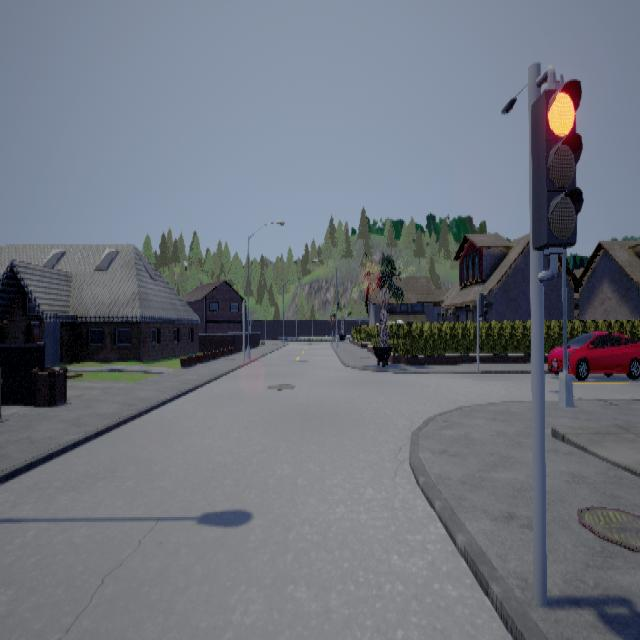red_light: (530, 64, 583, 281)
vehicle: (544, 330, 639, 379)
